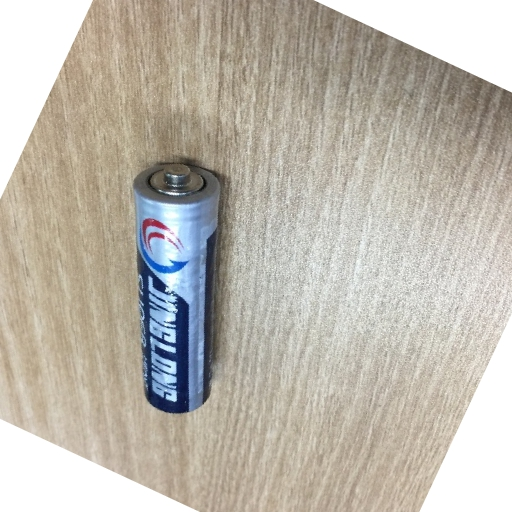Battery_0: (123, 150, 232, 421)
